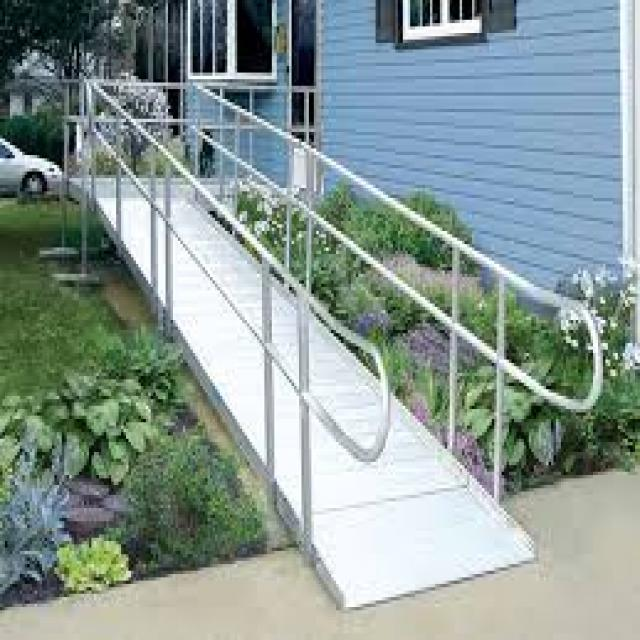CLIMB: (90, 195, 540, 610)
